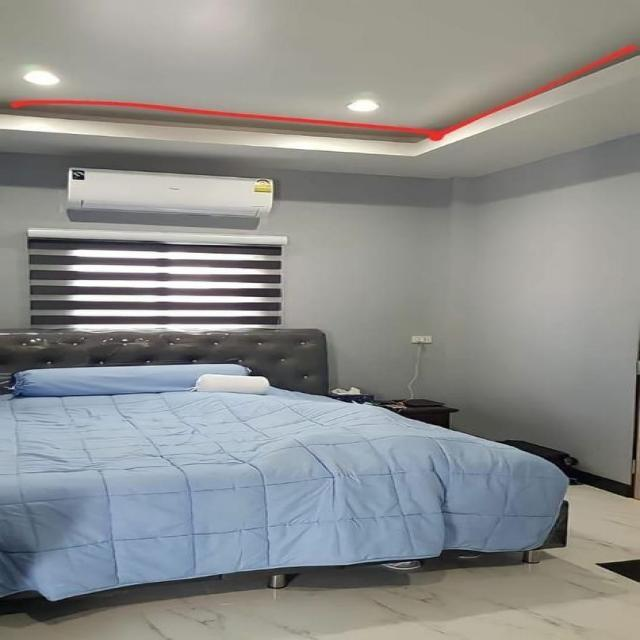AC: (64, 166, 273, 221)
